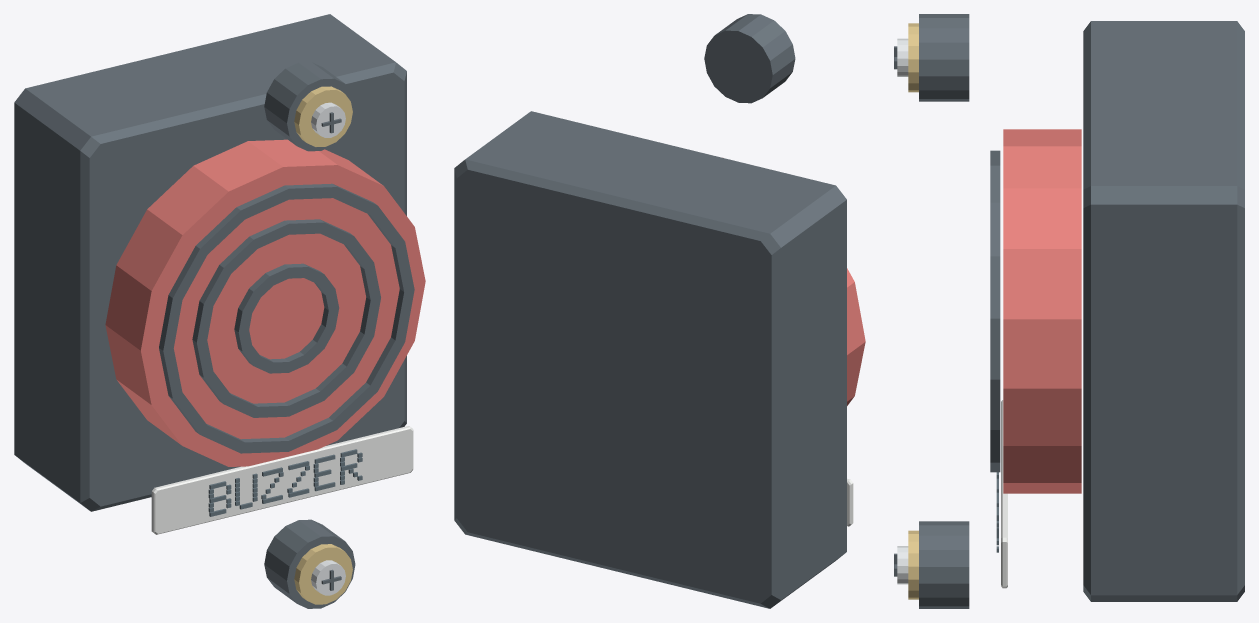
Rendered from buzzer.glb.
3 renders of one model, left to right at view 1: azimuth 30°, elevation 25°; view 2: azimuth 150°, elevation 25°; view 3: azimuth 270°, elevation 25°, orthographic. The views are drawn at different scales.
Parts seen in each view (by area): view 1: buzzer-preview; view 2: buzzer-preview; view 3: buzzer-preview.
Part boxes in pixels (<box>): buzzer-preview: <box>14,14,425,608</box>; buzzer-preview: <box>454,14,865,608</box>; buzzer-preview: <box>894,14,1244,608</box>.
Size of the model in its own units: 1.5 by 2.31 by 1.25.
